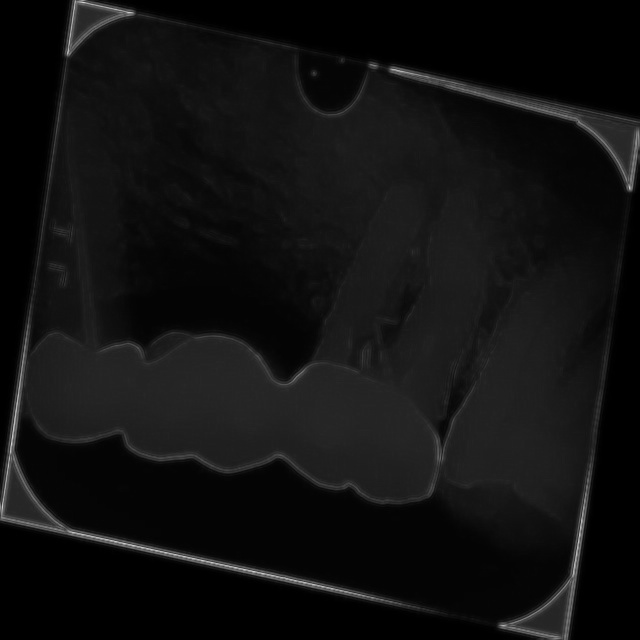Class 2- incomplete endodontic treatment: (286, 141, 486, 463)
